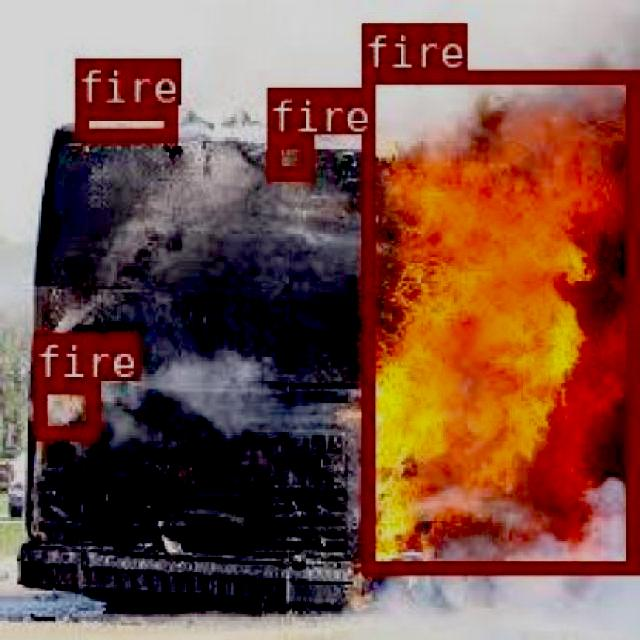fire: (360, 68, 634, 570), (31, 378, 97, 438), (73, 103, 175, 137), (264, 132, 310, 174)
